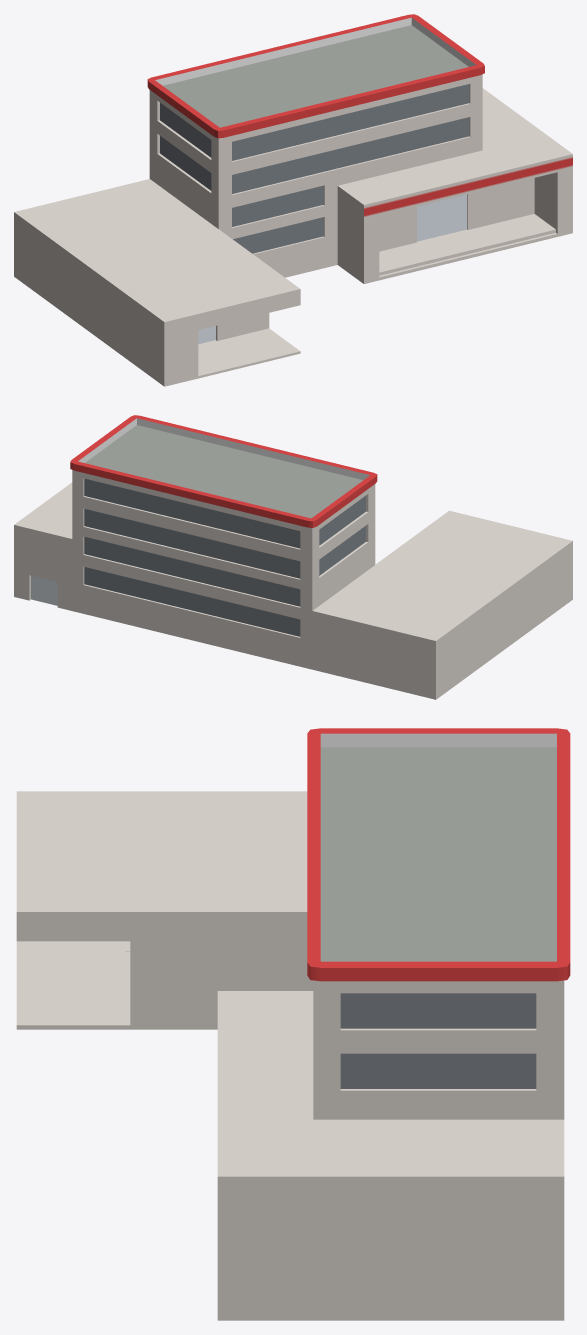
Rendered from hospital.fbx.
3 views of the same model, one above another, from view 1: azimuth 30°, elevation 25°; view 2: azimuth 150°, elevation 25°; view 3: azimuth 270°, elevation 25° (orthographic). The views are drawn at different scales.
Parts seen in each view (by area): view 1: pCube1937; view 2: pCube1937; view 3: pCube1937.
Part boxes in pixels (x1=…): pCube1937: x1=14, y1=14, x2=572, y2=386; pCube1937: x1=14, y1=415, x2=572, y2=699; pCube1937: x1=16, y1=728, x2=570, y2=1320.
Bounding box in the file's own units: 210 × 70.94 × 119.
